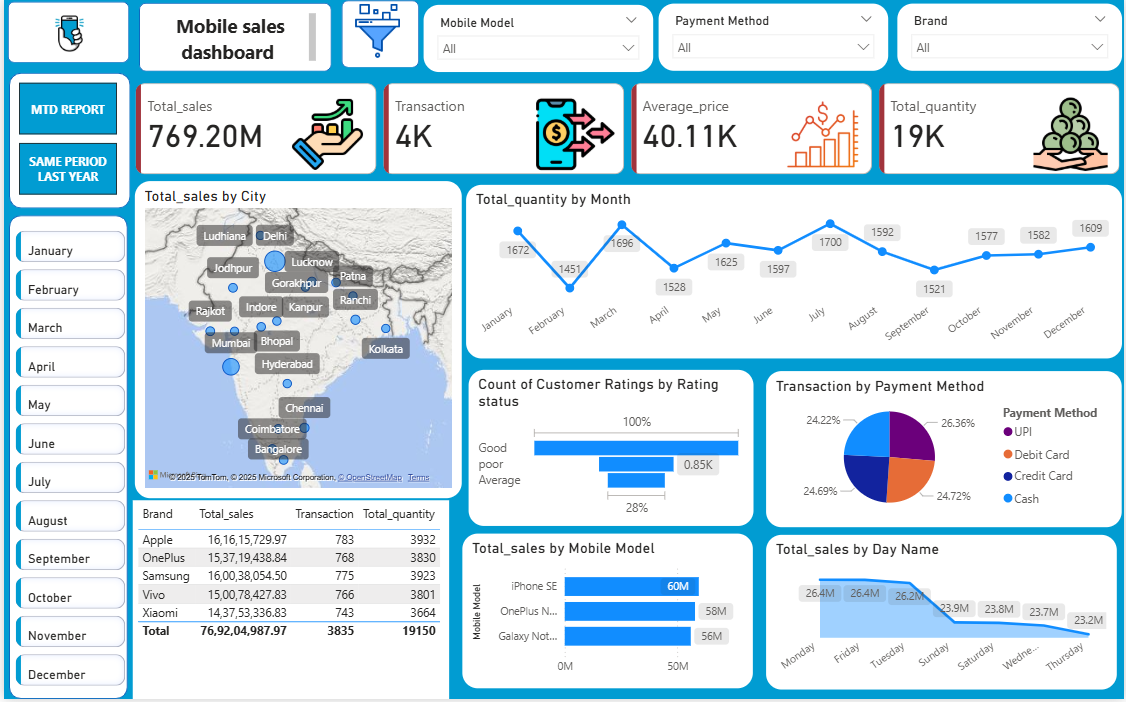

Layout of this report page (visuals, bound fields, positions):
{"tool":"powerbi","page":{"name":"dashboard ","canvas":[1280,800],"ordinal":0},"visuals":[{"type":"shape","box":[4.3,2.9,138.6,70],"z":0},{"type":"image","box":[42.9,7.1,64.3,64.3],"z":1000},{"type":"shape","box":[6.2,83.8,138.8,155],"z":2000},{"type":"shape","box":[5.7,247.1,135.7,552.9],"z":3000},{"type":"advancedSlicerVisual","fields":{"Values":["Custom Calander.Date.Variation.Date Hierarchy.Month"]},"box":[8.6,260,135.7,540],"z":4000},{"type":"cardVisual","fields":{"Data":["Sales_data.Total_sales","Sales_data.Transaction","Sales_data.Average_price","Sales_data.Total_quantity"]},"box":[145.7,91.4,1134.3,114.3],"z":5000},{"type":"slicer","fields":{"Values":["Sales_data.Brand"]},"box":[1018.6,2.9,261.4,81.4],"z":6000},{"type":"slicer","fields":{"Values":["Sales_data.Payment Method"]},"box":[745.7,2.9,267.1,81.4],"z":7000},{"type":"slicer","fields":{"Values":["Sales_data.Mobile Model"]},"box":[477.1,4.3,267.1,81.4],"z":8000},{"type":"shape","box":[385.7,1.4,88.6,77.1],"z":9000},{"type":"image","box":[358.6,0,137.1,72.9],"z":10000},{"type":"shape","box":[154.3,4.3,220,78.6],"z":11000},{"type":"textbox","box":[162.9,11.4,198.6,65.7],"z":12000},{"type":"map","fields":{"Category":["Sales_data.City"],"Size":["Sales_data.Total_sales"]},"box":[147.1,205.7,378.6,367.1],"z":13000},{"type":"lineChart","fields":{"Category":["Custom Calander.Date.Variation.Date Hierarchy.Month"],"Y":["Sales_data.Total_quantity"]},"box":[525.7,210,754.3,202.9],"z":14000},{"type":"funnel","fields":{"Y":["CountNonNull(Sales_data.Customer Ratings)"],"Category":["Sales_data.Rating status"]},"box":[528.6,421.4,330,182.9],"z":15000},{"type":"pieChart","fields":{"Category":["Sales_data.Payment Method"],"Y":["Sales_data.Transaction"]},"box":[868.6,422.9,411.4,182.9],"z":16000},{"type":"clusteredBarChart","fields":{"Category":["Sales_data.Mobile Model"],"Y":["Sales_data.Total_sales"]},"box":[521.4,608.6,337.1,181.4],"z":17000},{"type":"areaChart","fields":{"Category":["Custom Calander.Day Name"],"Y":["Sales_data.Total_sales"]},"box":[868.6,610,405.7,181.4],"z":18000},{"type":"tableEx","fields":{"Values":["Sales_data.Brand","Sales_data.Total_sales","Sales_data.Transaction","Sales_data.Total_quantity"]},"box":[147.1,572.9,361.4,227.1],"z":19000},{"type":"pageNavigator","box":[17.5,96.2,112.5,128.8],"z":20000}]}

Visuals, with their boxes in screenshot pixels (x1, y1, x2, y2), scaled from the page's 1280x800 canvas onto the 1126x702 screenshot:
shape: pyautogui.locateOnScreen(4, 3, 126, 64)
image: pyautogui.locateOnScreen(38, 6, 94, 63)
shape: pyautogui.locateOnScreen(5, 74, 128, 210)
shape: pyautogui.locateOnScreen(5, 217, 124, 701)
advancedSlicerVisual - Custom Calander.Date.Variation.Date Hierarchy.Month: pyautogui.locateOnScreen(8, 228, 127, 701)
cardVisual - Sales_data.Total_sales x Sales_data.Transaction: pyautogui.locateOnScreen(128, 80, 1125, 181)
slicer - Sales_data.Brand: pyautogui.locateOnScreen(896, 3, 1125, 74)
slicer - Sales_data.Payment Method: pyautogui.locateOnScreen(656, 3, 891, 74)
slicer - Sales_data.Mobile Model: pyautogui.locateOnScreen(420, 4, 655, 75)
shape: pyautogui.locateOnScreen(339, 1, 417, 69)
image: pyautogui.locateOnScreen(315, 0, 436, 64)
shape: pyautogui.locateOnScreen(136, 4, 329, 73)
textbox: pyautogui.locateOnScreen(143, 10, 318, 68)
map - Sales_data.City x Sales_data.Total_sales: pyautogui.locateOnScreen(129, 181, 462, 503)
lineChart - Custom Calander.Date.Variation.Date Hierarchy.Month x Sales_data.Total_quantity: pyautogui.locateOnScreen(462, 184, 1125, 362)
funnel - CountNonNull(Sales_data.Customer Ratings) x Sales_data.Rating status: pyautogui.locateOnScreen(465, 370, 755, 530)
pieChart - Sales_data.Payment Method x Sales_data.Transaction: pyautogui.locateOnScreen(764, 371, 1125, 532)
clusteredBarChart - Sales_data.Mobile Model x Sales_data.Total_sales: pyautogui.locateOnScreen(459, 534, 755, 693)
areaChart - Custom Calander.Day Name x Sales_data.Total_sales: pyautogui.locateOnScreen(764, 535, 1121, 694)
tableEx - Sales_data.Brand x Sales_data.Total_sales: pyautogui.locateOnScreen(129, 503, 447, 701)
pageNavigator: pyautogui.locateOnScreen(15, 84, 114, 197)
